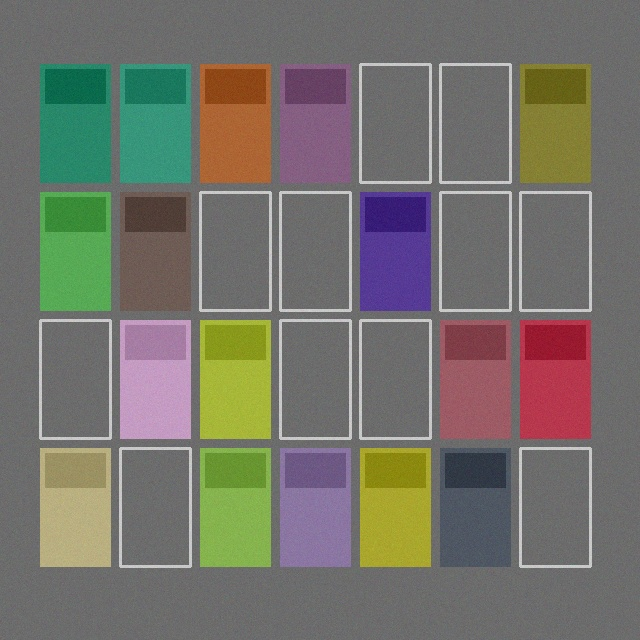space-empty: (360, 64, 430, 182), (440, 64, 510, 182), (200, 192, 270, 310), (280, 192, 350, 310), (440, 192, 510, 310), (520, 192, 590, 310), (40, 320, 110, 438), (280, 320, 350, 438), (360, 320, 430, 438), (120, 448, 190, 566), (520, 448, 590, 566)
space-occupied: (40, 64, 110, 182), (120, 64, 190, 182), (200, 64, 270, 182), (280, 64, 350, 182), (520, 64, 590, 182), (40, 192, 110, 310), (120, 192, 190, 310), (360, 192, 430, 310), (120, 320, 190, 438), (200, 320, 270, 438), (440, 320, 510, 438), (520, 320, 590, 438), (40, 448, 110, 566), (200, 448, 270, 566), (280, 448, 350, 566), (360, 448, 430, 566), (440, 448, 510, 566)
